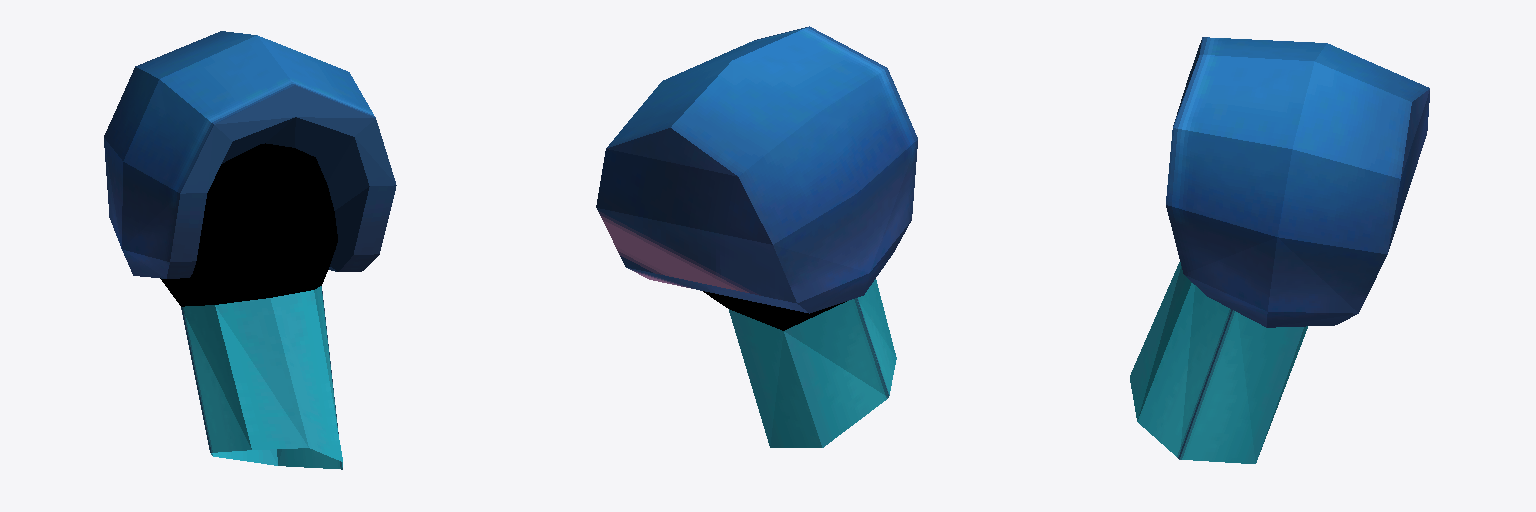
3 views of the same model, side by side, from view 1: azimuth 30°, elevation 25°; view 2: azimuth 150°, elevation 25°; view 3: azimuth 270°, elevation 25° (orthographic).
Visible parts, largest first — view 1: Pierna_izquierda034, Pierna_izquierda035, Pierna_izquierda033; view 2: Pierna_izquierda034, Pierna_izquierda035, Pierna_izquierda033; view 3: Pierna_izquierda034, Pierna_izquierda035.
Boxes of the visible parts, <box> form: Pierna_izquierda034: <box>104,31,396,278</box>; Pierna_izquierda035: <box>181,286,342,469</box>; Pierna_izquierda033: <box>160,143,337,306</box>; Pierna_izquierda034: <box>596,26,917,313</box>; Pierna_izquierda035: <box>729,279,896,447</box>; Pierna_izquierda033: <box>703,291,846,330</box>; Pierna_izquierda034: <box>1166,37,1429,327</box>; Pierna_izquierda035: <box>1130,262,1307,463</box>.
Size of the model in its own units: 0.8752 by 1.44 by 0.9665.
Materials: 2 (1 with a texture image).